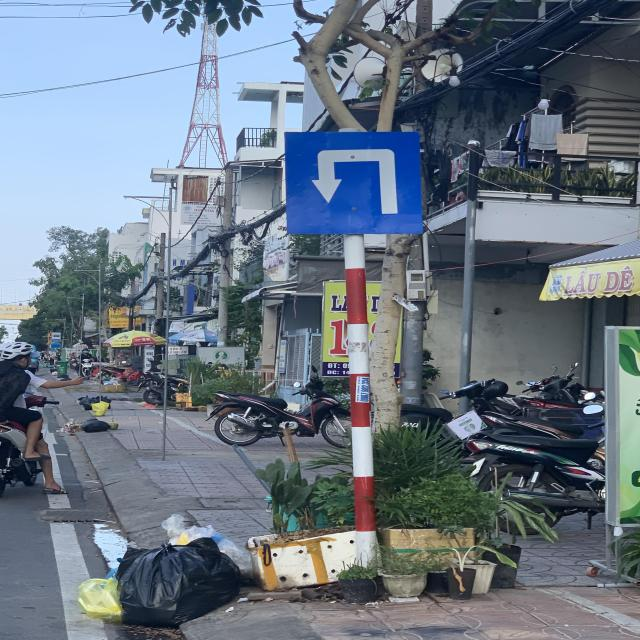Den_Giao_Thong: (284, 131, 422, 235)
